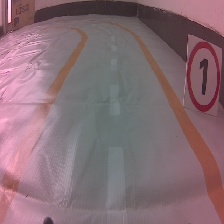limit: (182, 31, 223, 119)
